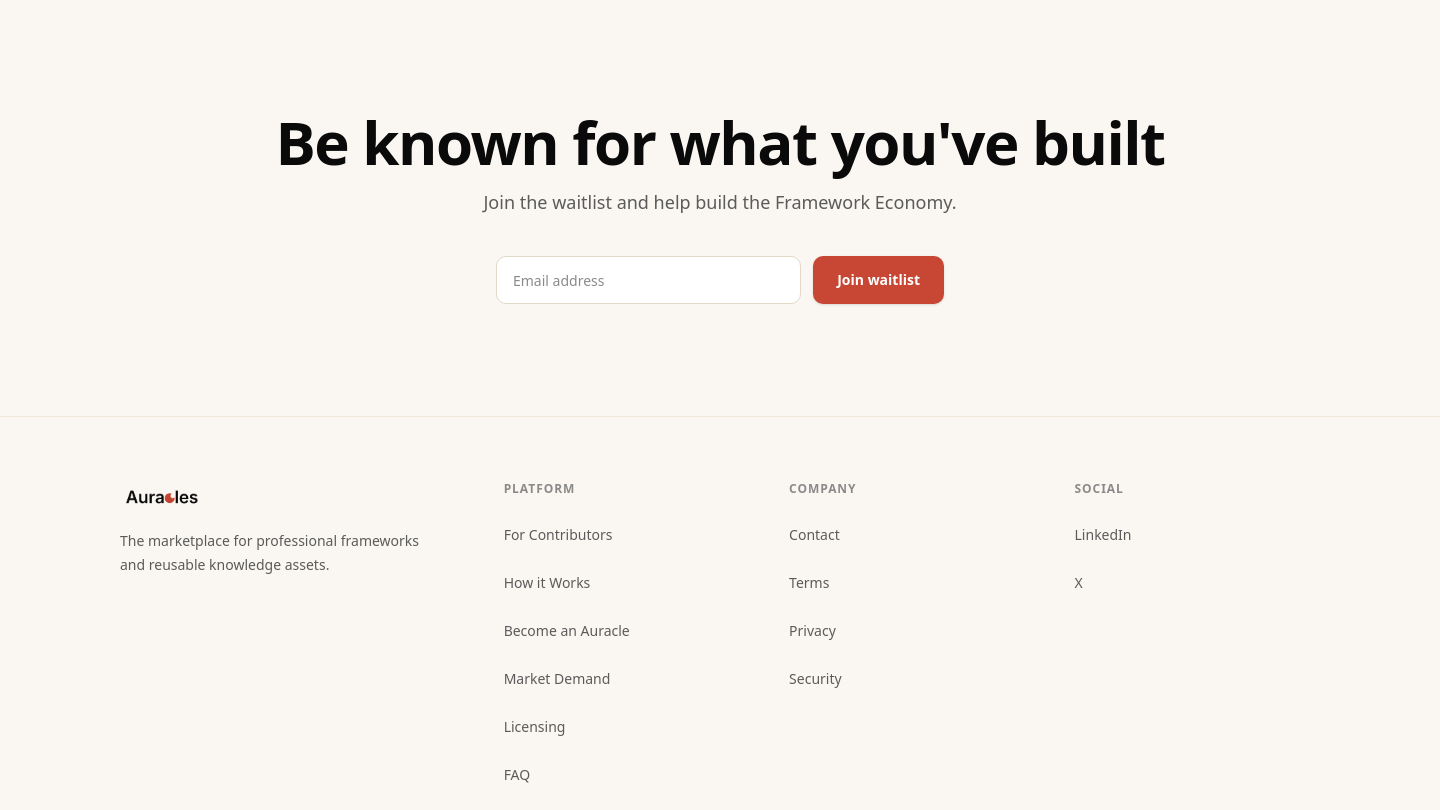
Scenario: FooterCta waitlist form › surfaces an error message when the route rejects the submission
Type "ada@example.com" into the field labelled "Email address".
click(649, 280); type("ada@example.com")  # box left=496, top=256, right=801, bottom=304
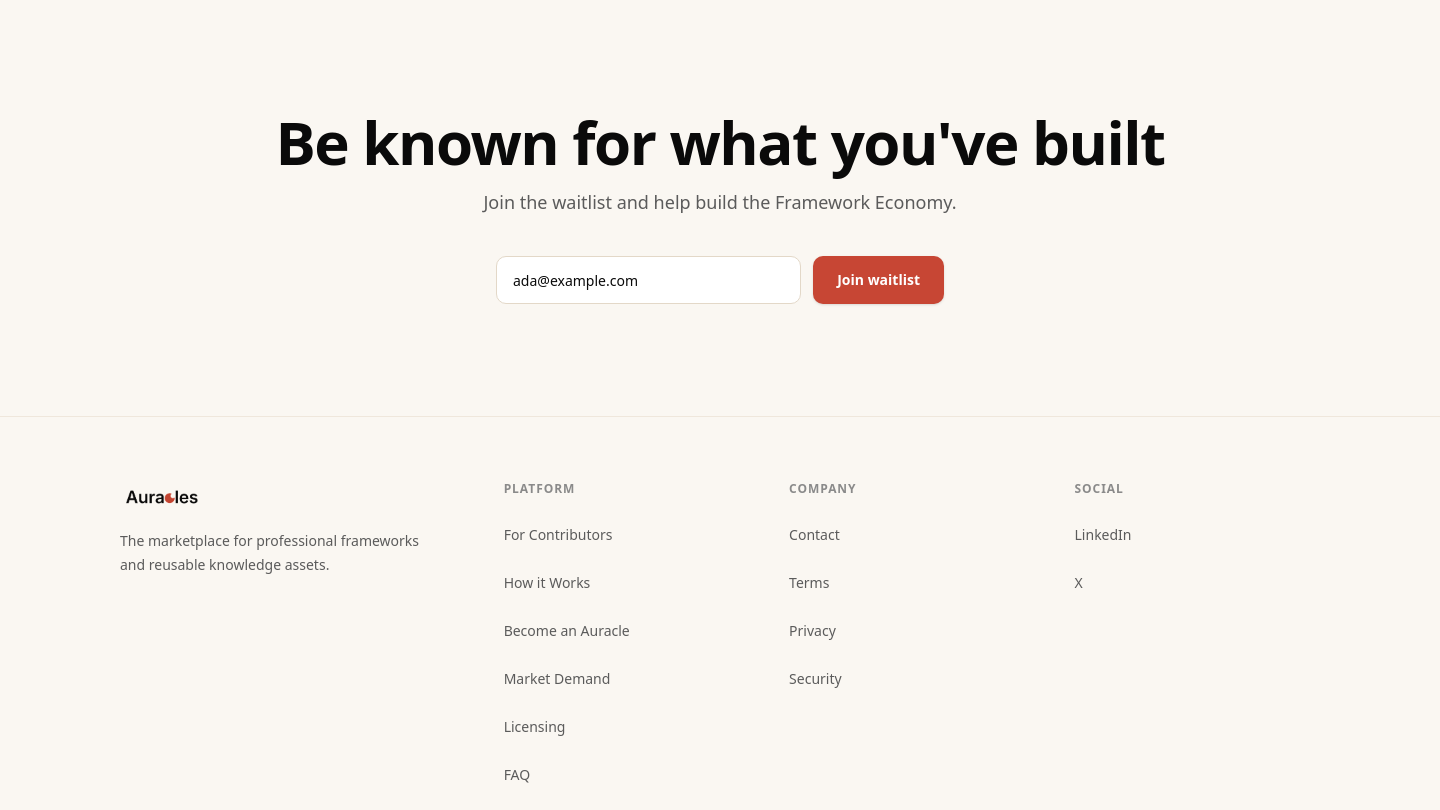
Click the button "Join waitlist".
click(879, 280)  # box left=813, top=256, right=944, bottom=304
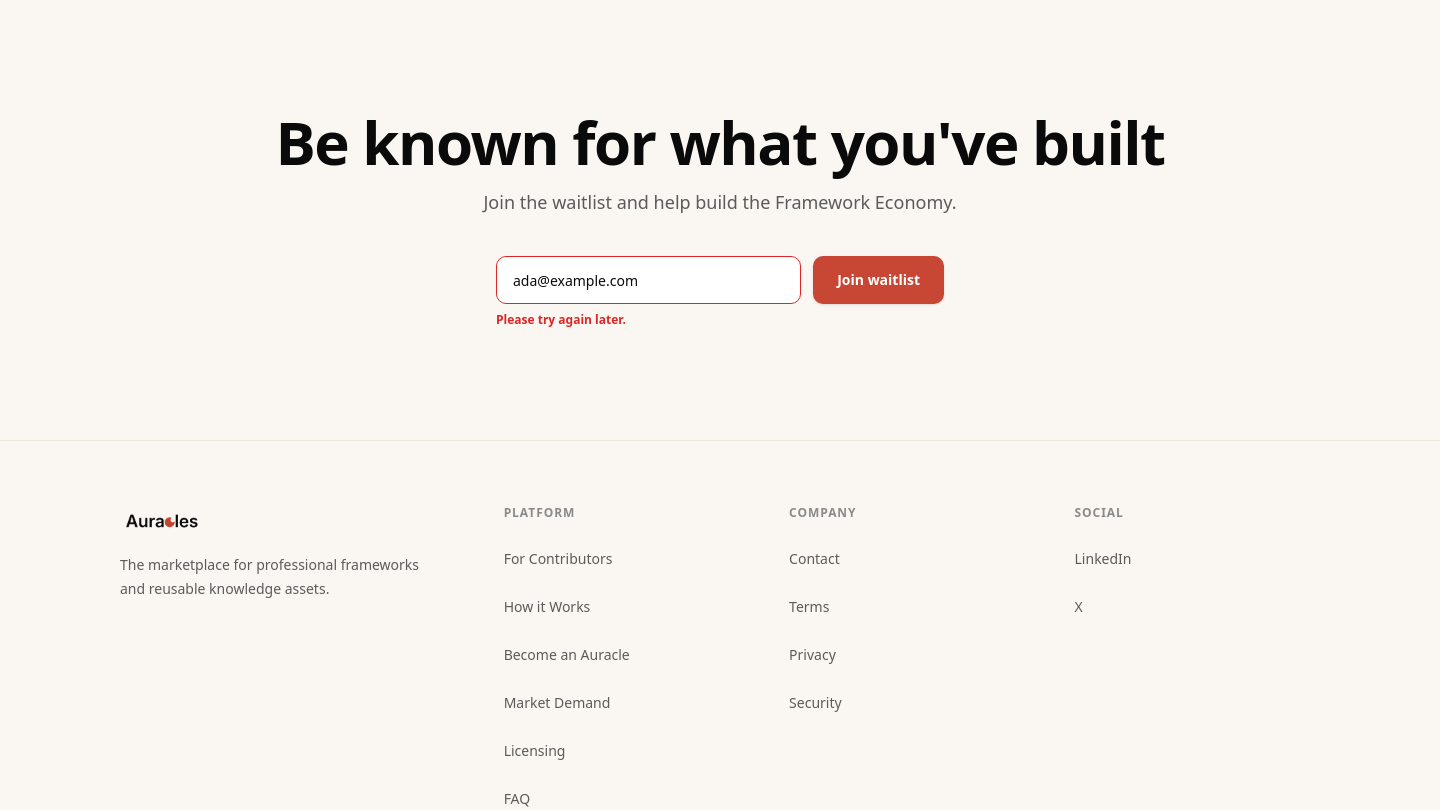
Expected: the message shows "Please try again later", left=496, top=311, right=626, bottom=328
